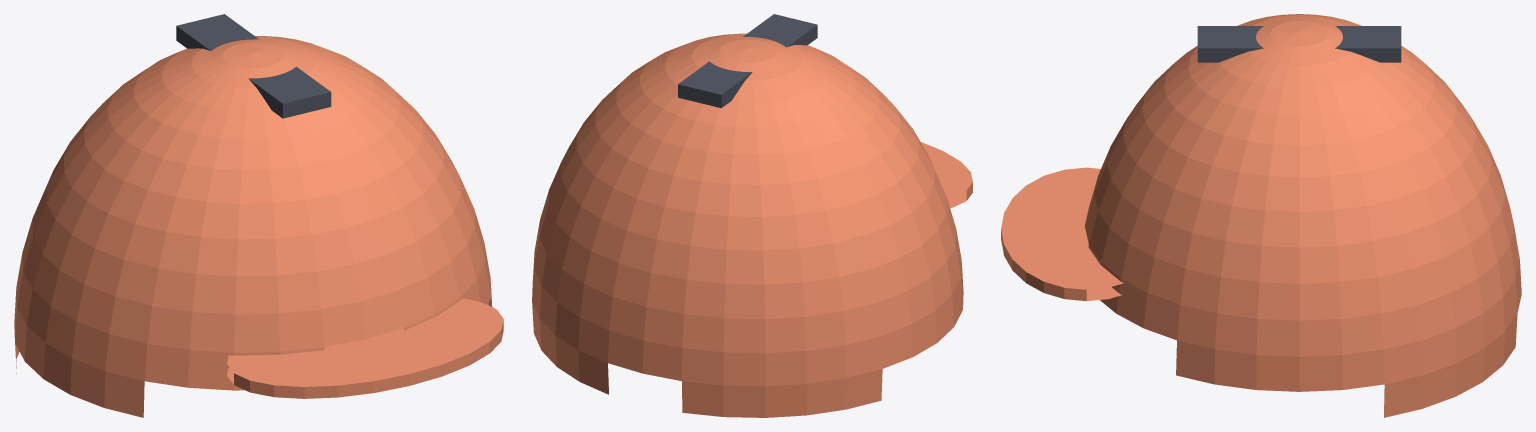
File: helmet_test01.glb
The picture shows the model from 3 angles, left to right: view 1: azimuth 30°, elevation 25°; view 2: azimuth 150°, elevation 25°; view 3: azimuth 270°, elevation 25°; orthographic projection. The views are drawn at different scales.
Parts seen in each view (by area): view 1: helmet_test02, helmet_brim, helmet_vent; view 2: helmet_test02, helmet_vent, helmet_brim; view 3: helmet_test02, helmet_brim, helmet_vent.
Part boxes in pixels (<box>): helmet_test02: <box>14,36,492,417</box>; helmet_brim: <box>227,298,503,398</box>; helmet_vent: <box>176,14,331,118</box>; helmet_test02: <box>532,33,963,417</box>; helmet_vent: <box>678,14,817,108</box>; helmet_brim: <box>921,142,972,208</box>; helmet_test02: <box>1085,14,1521,417</box>; helmet_brim: <box>1001,167,1123,301</box>; helmet_vent: <box>1197,26,1401,62</box>.
Bounding box in the file's own units: 0.296 × 0.2091 × 0.3326.
